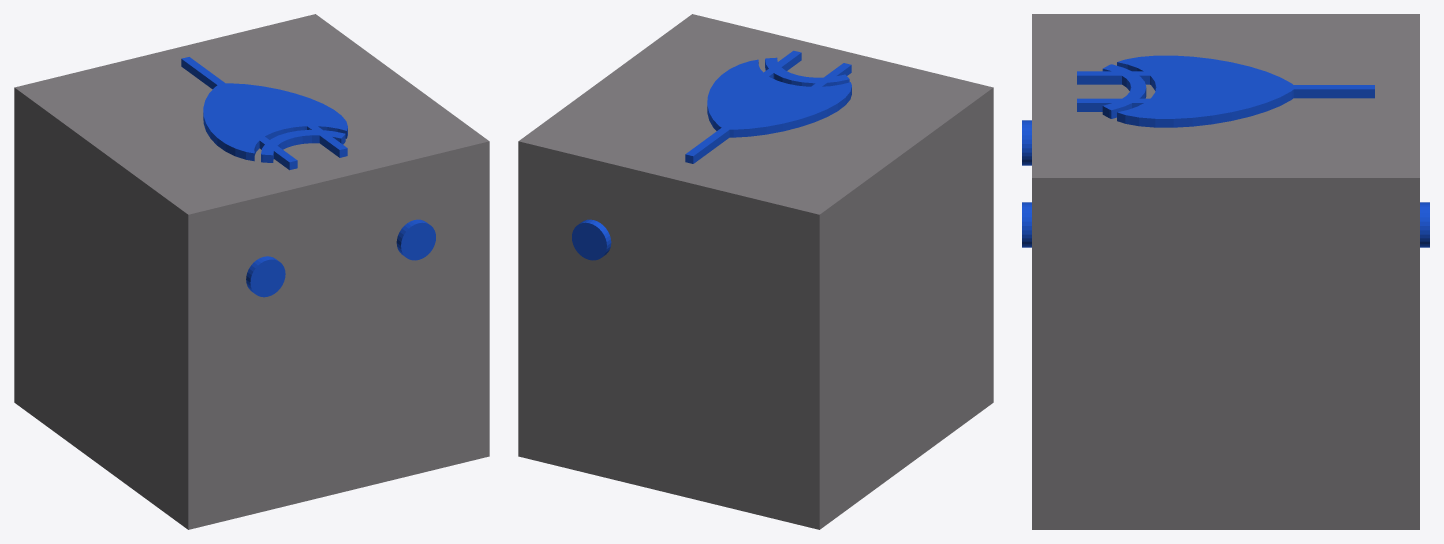
The model's file is XOR_gate.fbx.
The picture shows the model from 3 angles, left to right: view 1: azimuth 30°, elevation 25°; view 2: azimuth 150°, elevation 25°; view 3: azimuth 270°, elevation 25°; orthographic projection. The views are drawn at different scales.
Visible parts, largest first — view 1: Cube, Cube.005, Cylinder.002, Cylinder.001, Cylinder, Cube.003, Cube.002; view 2: Cube, Cube.005, Cylinder.003, Cylinder, Cube.003; view 3: Cube, Cube.005, Cube.003, Cylinder, Cube.002, Cube.001.
Part boxes in pixels (x1=…): Cube: x1=14, y1=14, x2=489, y2=529; Cube.005: x1=203, y1=83, x2=347, y2=161; Cylinder.002: x1=246, y1=256, x2=285, y2=297; Cylinder.001: x1=396, y1=219, x2=435, y2=260; Cylinder: x1=261, y1=129, x2=345, y2=162; Cube.003: x1=181, y1=57, x2=234, y2=92; Cube.002: x1=243, y1=127, x2=297, y2=170; Cube: x1=518, y1=14, x2=993, y2=529; Cube.005: x1=707, y1=59, x2=851, y2=137; Cylinder.003: x1=572, y1=219, x2=611, y2=260; Cylinder: x1=765, y1=57, x2=849, y2=86; Cube.003: x1=685, y1=120, x2=739, y2=163; Cube: x1=1032, y1=14, x2=1419, y2=529; Cube.005: x1=1117, y1=55, x2=1293, y2=127; Cube.003: x1=1271, y1=85, x2=1374, y2=98; Cylinder: x1=1102, y1=64, x2=1146, y2=118; Cube.002: x1=1077, y1=71, x2=1149, y2=84; Cube.001: x1=1077, y1=98, x2=1180, y2=111.
Bounding box in the file's own units: 600 × 615 × 630.
